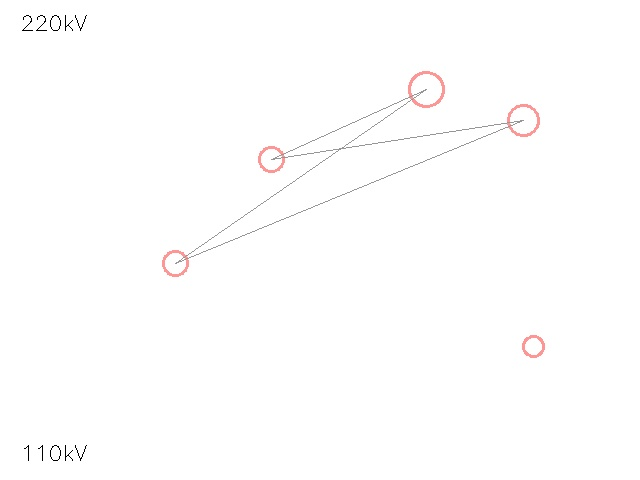feeder_terminal: (247, 135, 295, 183)
surge_arrester: (492, 89, 554, 151), (151, 239, 199, 287)
voltage_transformer: (392, 55, 460, 123), (513, 326, 553, 366)
